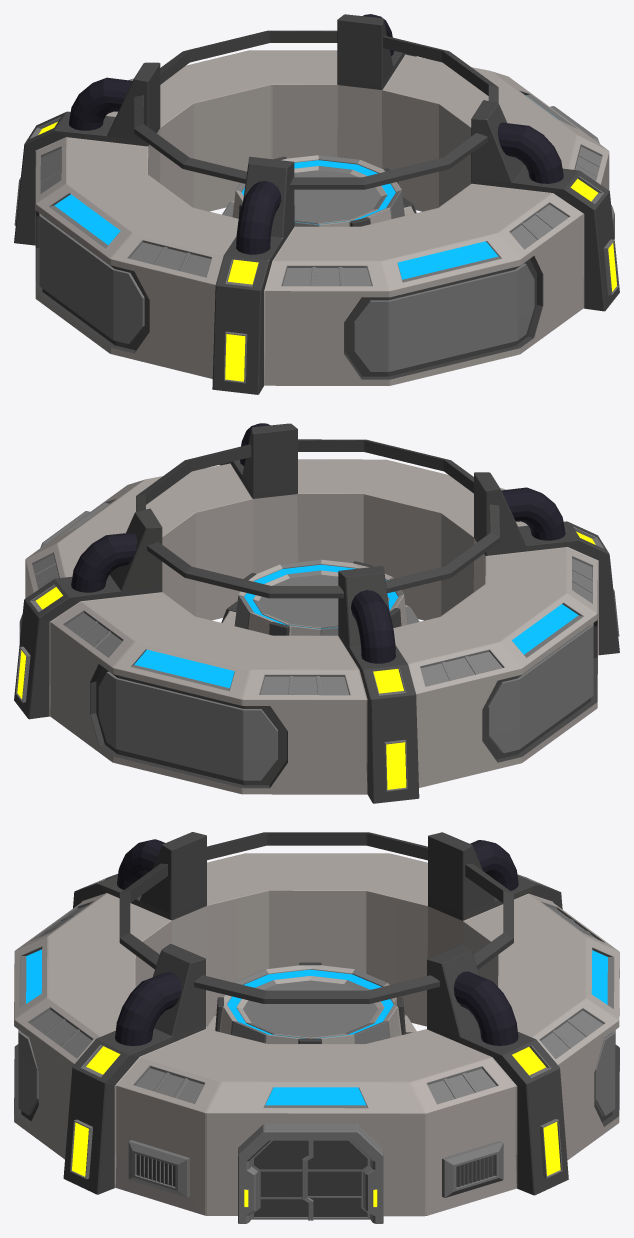
3 renders of one model, top to bottom at view 1: azimuth 30°, elevation 25°; view 2: azimuth 150°, elevation 25°; view 3: azimuth 270°, elevation 25°, orthographic. The views are drawn at different scales.
Visible parts, largest first — view 1: Base; view 2: Base; view 3: Base.
Boxes of the visible parts, bbox=[...] form: Base: bbox=[14, 14, 619, 394]; Base: bbox=[14, 423, 619, 803]; Base: bbox=[14, 832, 619, 1223].
Size of the model in its own units: 997 by 336 by 967.
